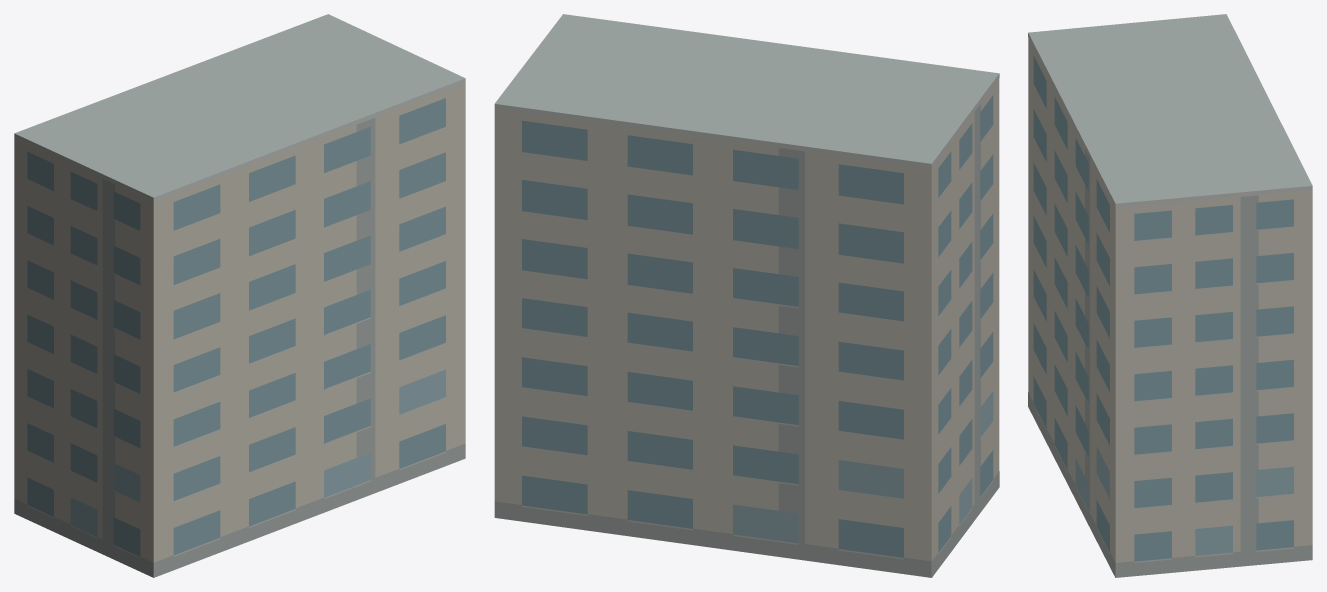
Rendered from survey-upis-32699314.glb.
3 renders of one model, left to right at view 1: azimuth 30°, elevation 25°; view 2: azimuth 150°, elevation 25°; view 3: azimuth 270°, elevation 25°, orthographic. The views are drawn at different scales.
Visible parts, largest first — view 1: survey-upis-32699314.tmp; view 2: survey-upis-32699314.tmp; view 3: survey-upis-32699314.tmp.
Part boxes in pixels (box(x1,y1,x2,y2)): survey-upis-32699314.tmp: box(14, 14, 465, 577); survey-upis-32699314.tmp: box(494, 14, 999, 577); survey-upis-32699314.tmp: box(1028, 14, 1312, 577).
Bounding box in the file's own units: 21.75 × 20 × 13.8.
